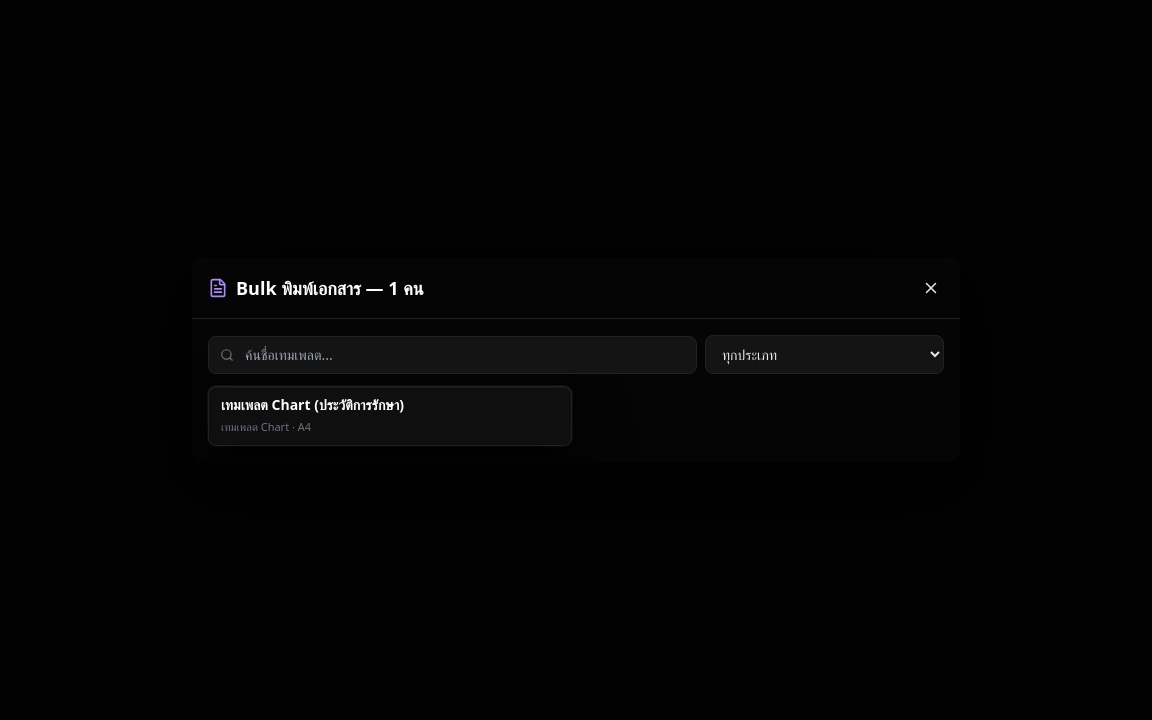
Test: BulkPrintModal smart staff-select (V32-tris) › SP1.3 picking a doctor auto-fills license + phone + email + position + English name (V32-tris smart auto-fill)
Click the button with test id "bulk-print-template-chart-tpl": (390, 416) [208,386,572,446]
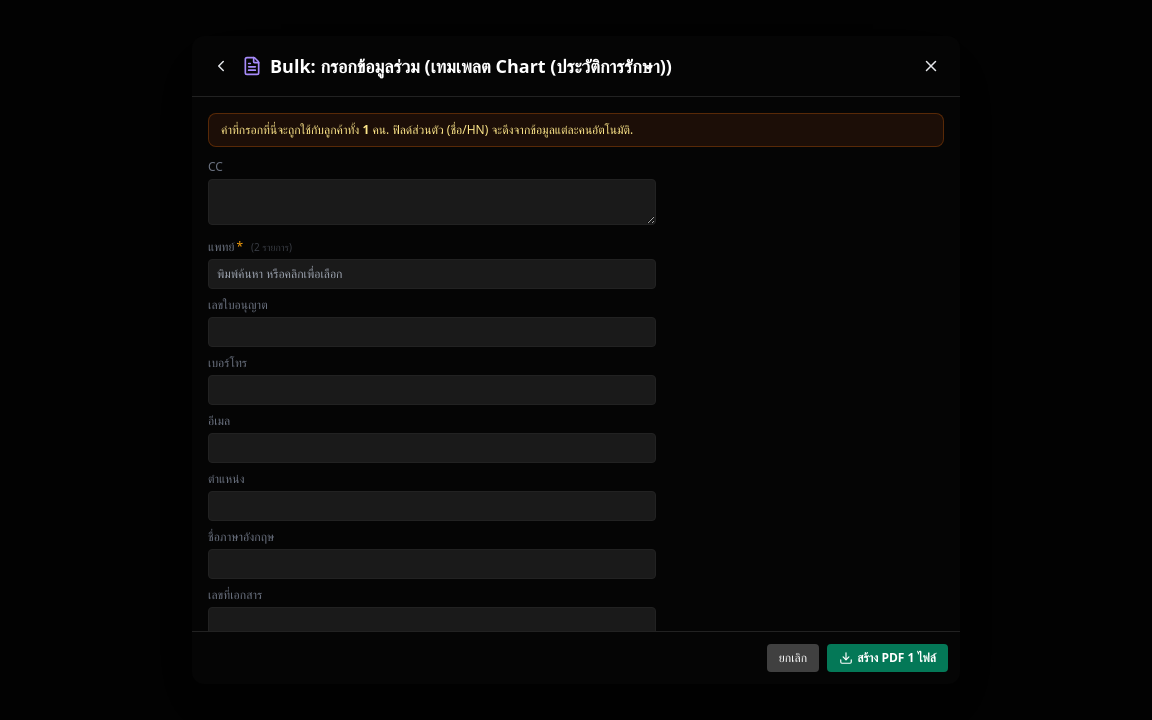
Expected: the element with test id "staff-select-doctorName" is shown, [208,239,656,289]
Note: Open dropdown + pick doctor 1
Focus the field with placeholder "พิมพ์ค้นหา หรือคลิกเพื่อเลือก": (432, 274) [208,259,656,289]
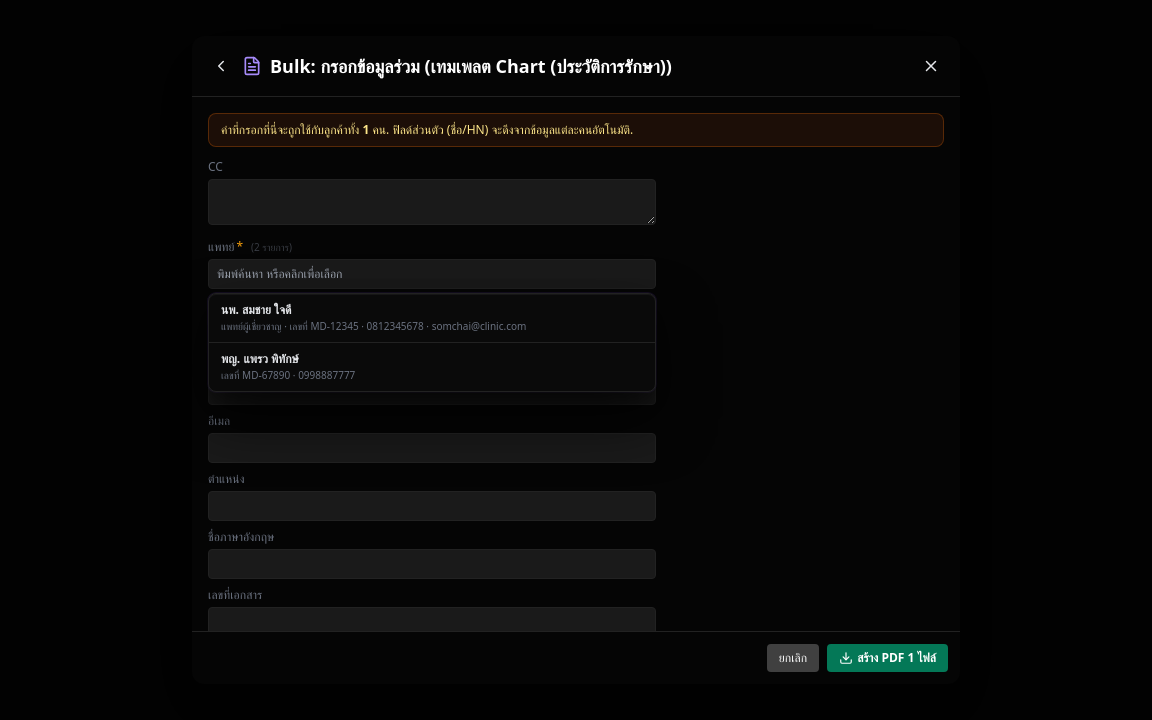
Expected: the text "นพ. สมชาย ใจดี" is shown
Click the text "นพ. สมชาย ใจดี": (256, 310) [221,301,292,318]
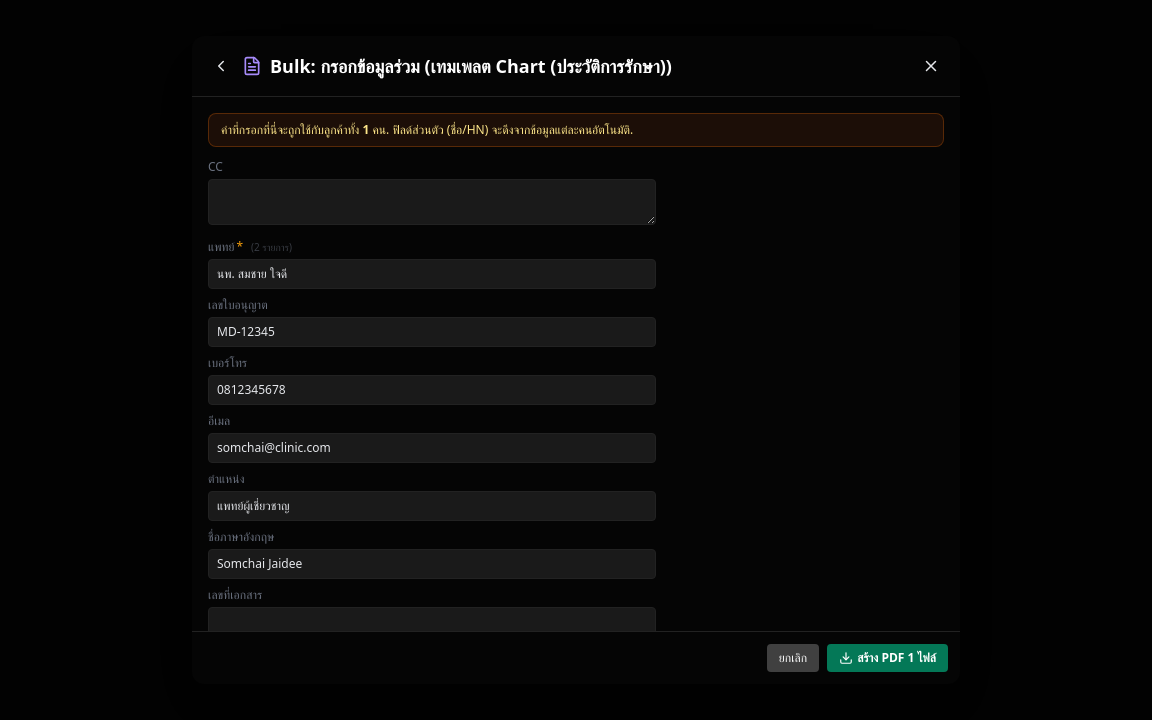
Expected: the field below "แพทย์" holds "นพ. สมชาย ใจดี", [208,259,656,289]
Expected: the field below "เลขใบอนุญาต" holds "MD-12345", [208,317,656,347]
Expected: the field below "เบอร์โทร" holds "0812345678", [208,375,656,405]
